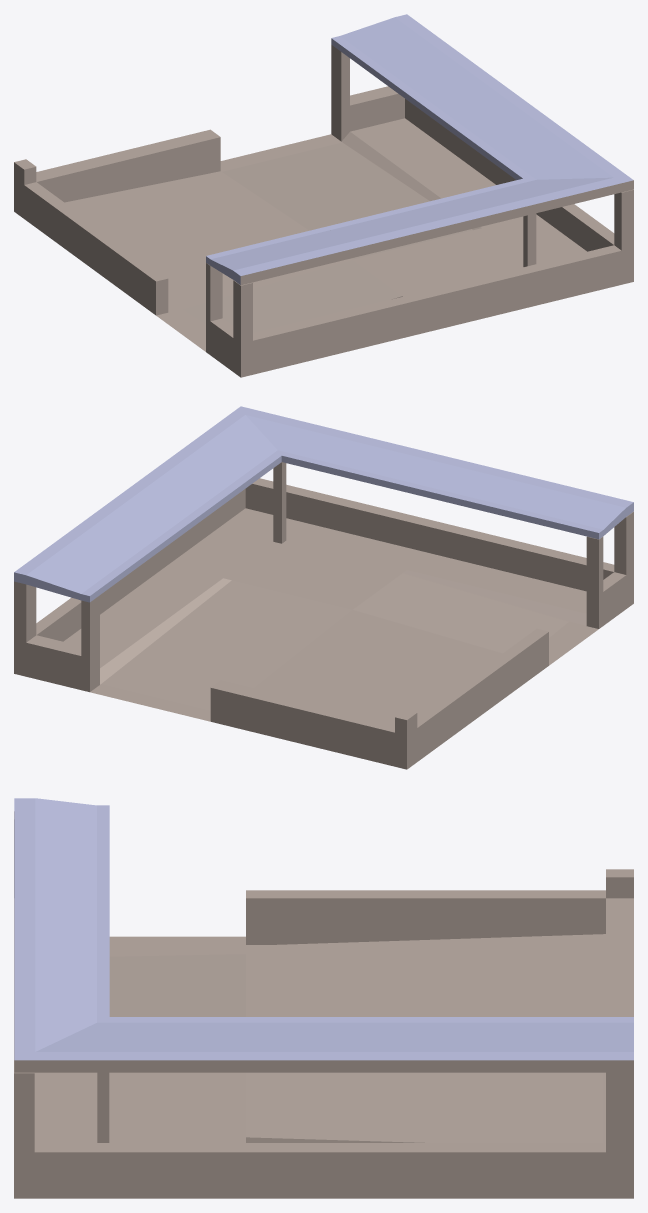
File: simple_storage.glb
The picture shows the model from 3 angles, top to bottom: view 1: azimuth 30°, elevation 25°; view 2: azimuth 150°, elevation 25°; view 3: azimuth 270°, elevation 25°; orthographic projection. The views are drawn at different scales.
Visible parts, largest first — view 1: Cube; view 2: Cube; view 3: Cube.
Boxes of the visible parts, left/top/right/bottom form: Cube: left=14, top=14, right=633, bottom=377; Cube: left=14, top=406, right=633, bottom=769; Cube: left=14, top=798, right=633, bottom=1198.
Size of the model in its own units: 2 by 0.4975 by 2.
